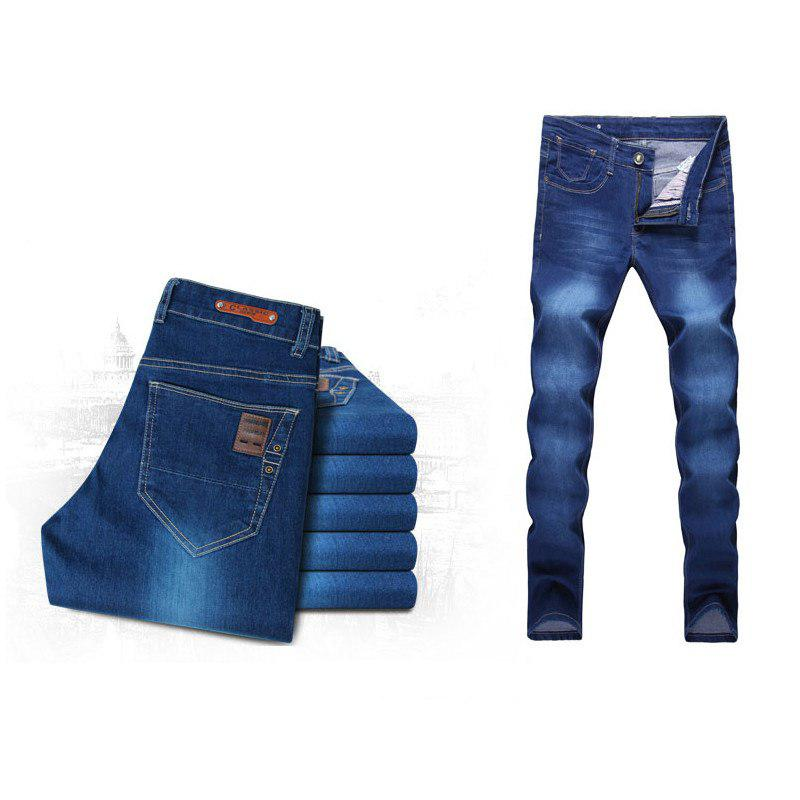jeans: (38, 283, 439, 671), (504, 103, 747, 650)
